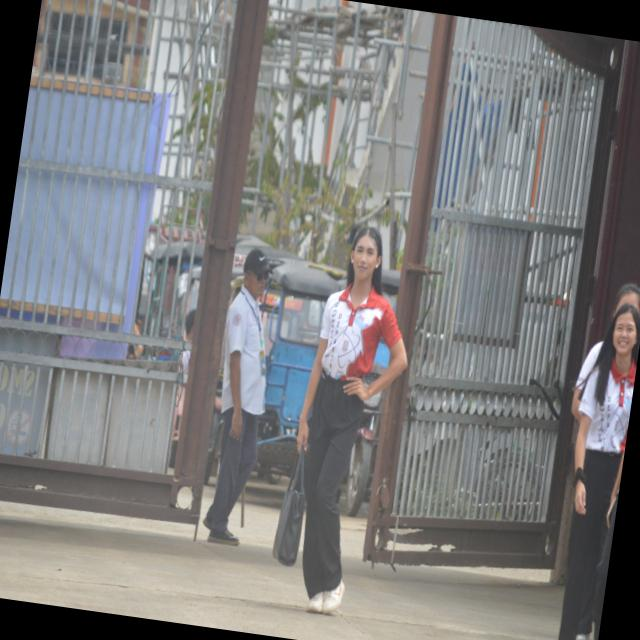person: (298, 228, 407, 614), (559, 304, 639, 639), (204, 249, 269, 545), (572, 342, 602, 421)
